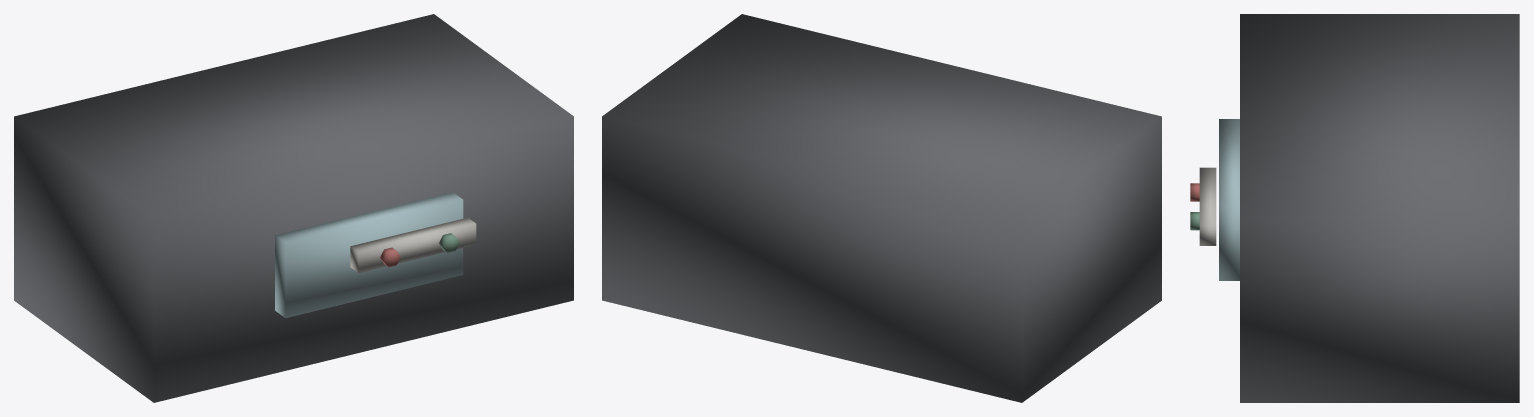
Rendered from cassette_deck__reinforced.glb.
The picture shows the model from 3 angles, left to right: view 1: azimuth 30°, elevation 25°; view 2: azimuth 150°, elevation 25°; view 3: azimuth 270°, elevation 25°; orthographic projection.
Parts seen in each view (by area): view 1: world; view 2: world; view 3: world.
Part boxes in pixels (<box>): world: <box>14,14,573,402</box>; world: <box>602,14,1161,402</box>; world: <box>1190,14,1519,402</box>.
Size of the model in its own units: 0.5356 by 0.2244 by 0.3641.
